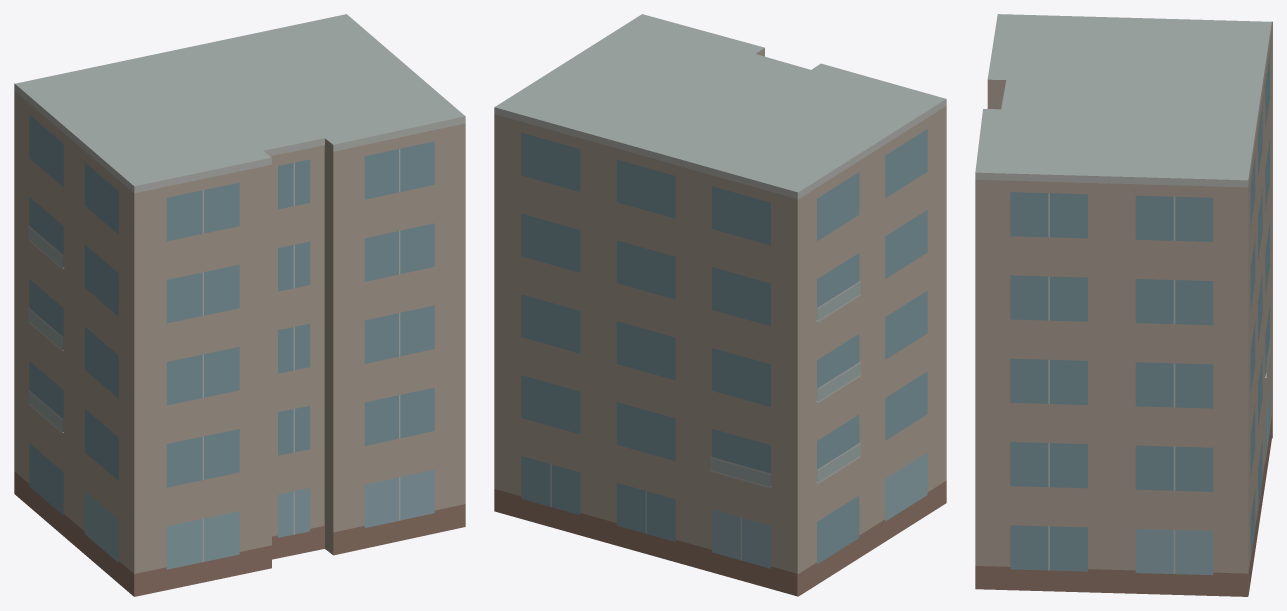
Rendered from survey-upis-32699060.glb.
3 views of the same model, side by side, from view 1: azimuth 30°, elevation 25°; view 2: azimuth 150°, elevation 25°; view 3: azimuth 270°, elevation 25° (orthographic). The views are drawn at different scales.
Visible parts, largest first — view 1: survey-upis-32699060.tmp; view 2: survey-upis-32699060.tmp; view 3: survey-upis-32699060.tmp.
Part boxes in pixels (<box>): survey-upis-32699060.tmp: <box>14,14,465,596</box>; survey-upis-32699060.tmp: <box>494,14,946,596</box>; survey-upis-32699060.tmp: <box>975,14,1272,596</box>.
Bounding box in the file's own units: 12.34 × 14.4 × 9.33.
